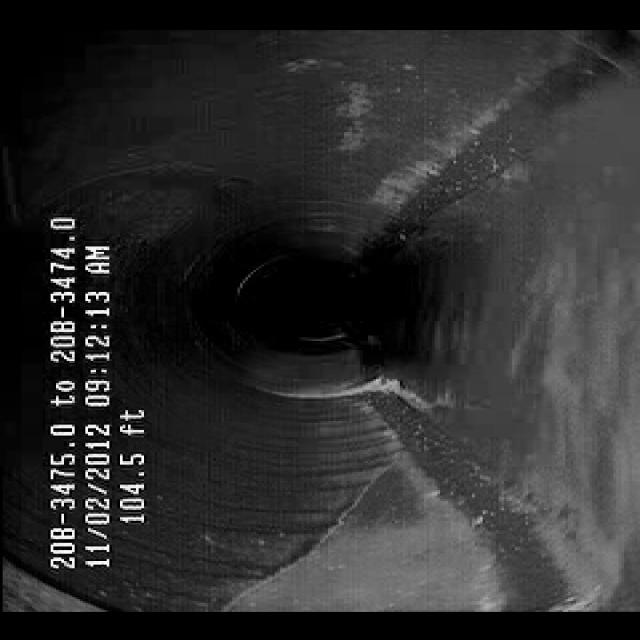Crack: (214, 469, 392, 597)
